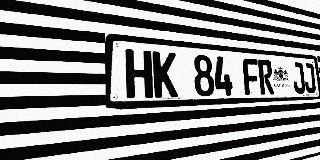4: (213, 56, 233, 96)
8: (193, 54, 215, 97)
F: (242, 58, 260, 95)
H: (125, 49, 153, 99)
J: (291, 62, 306, 94), (303, 63, 316, 93)
K: (152, 51, 178, 98)
R: (258, 59, 274, 95)
